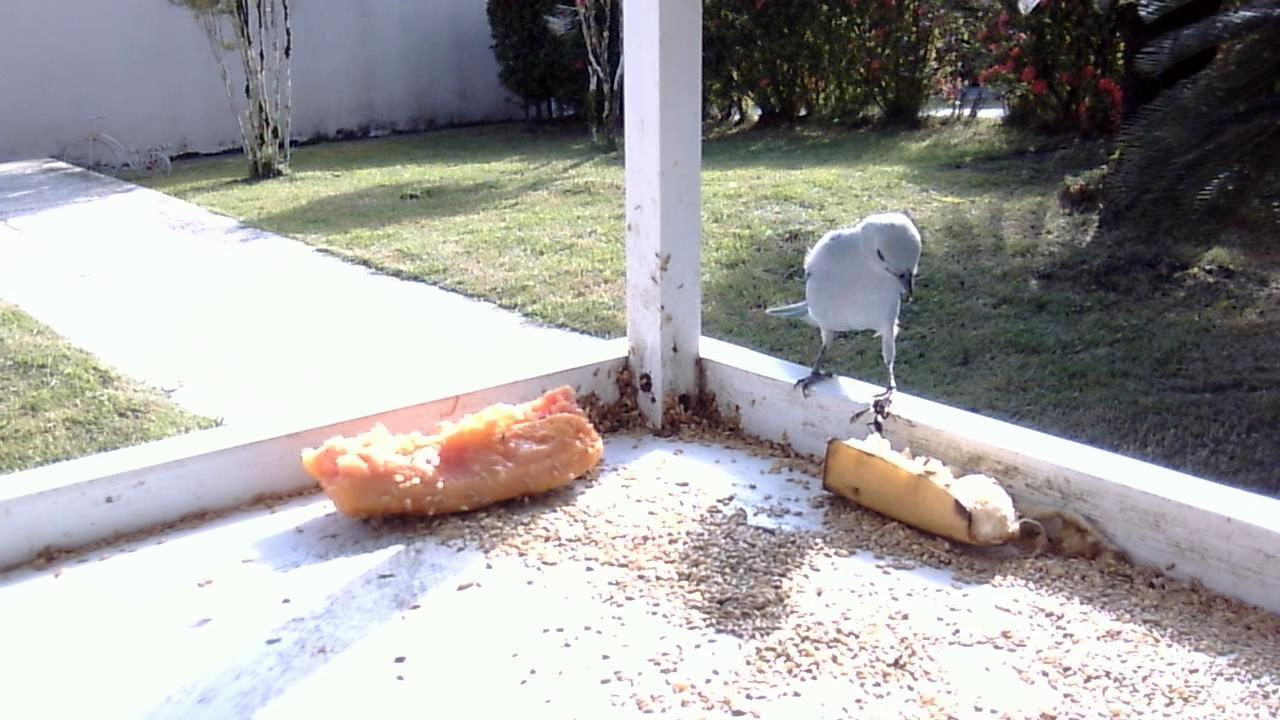sanhaco_da_amazonia: (753, 201, 922, 444)
